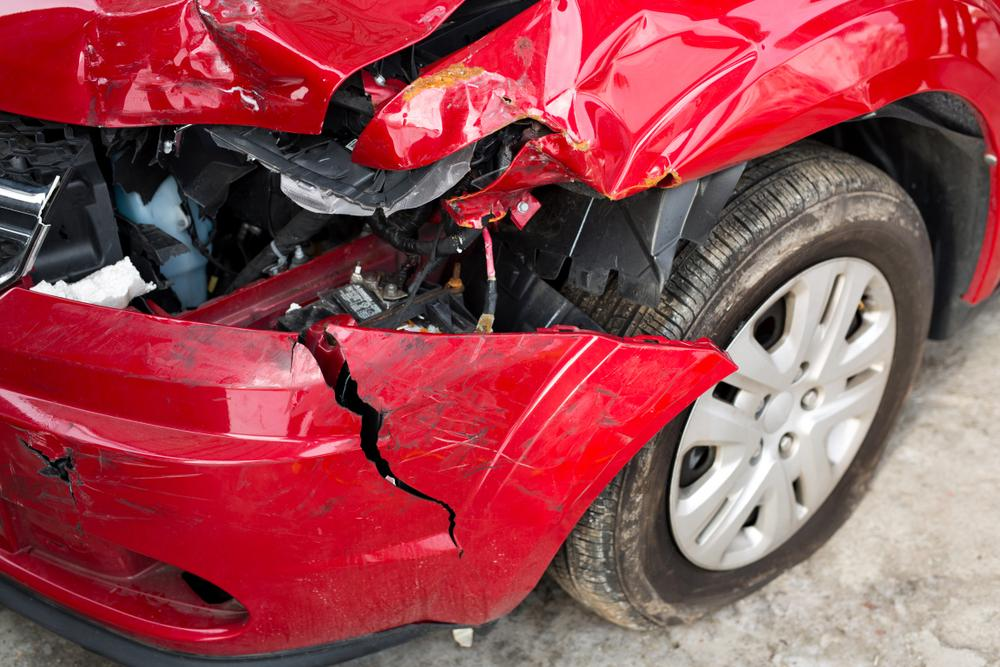crack: (289, 326, 464, 560), (14, 436, 76, 520)
dent: (386, 0, 760, 197), (84, 0, 324, 131)
scratch: (69, 321, 306, 520), (350, 333, 631, 484)
